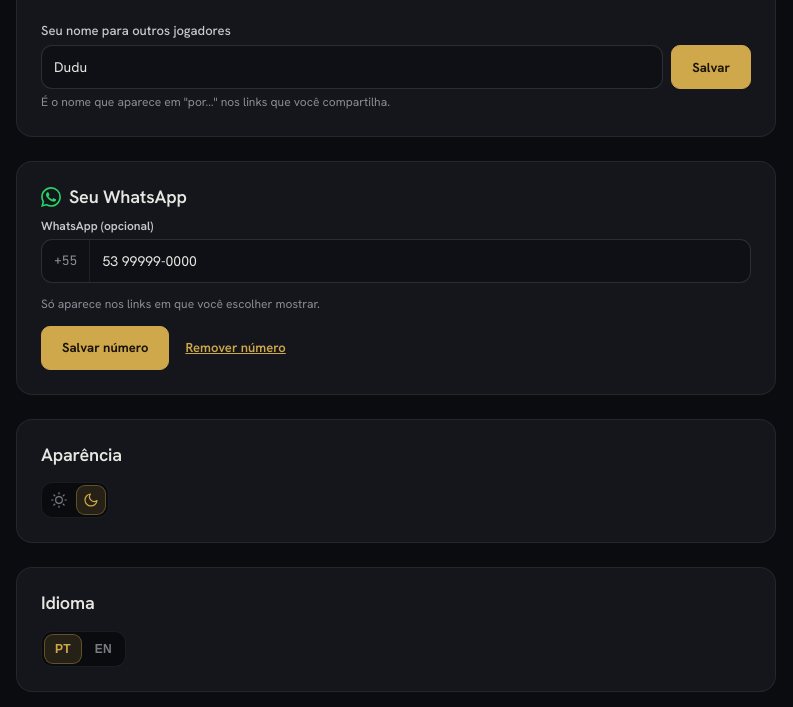
SettingsPage — Contact panel (WhatsApp) › removes the number by sending null
This screenshot has width=793, height=707.
(page scrolled)
Click the button "Remover número" at (236, 348), box [185,326,286,370]
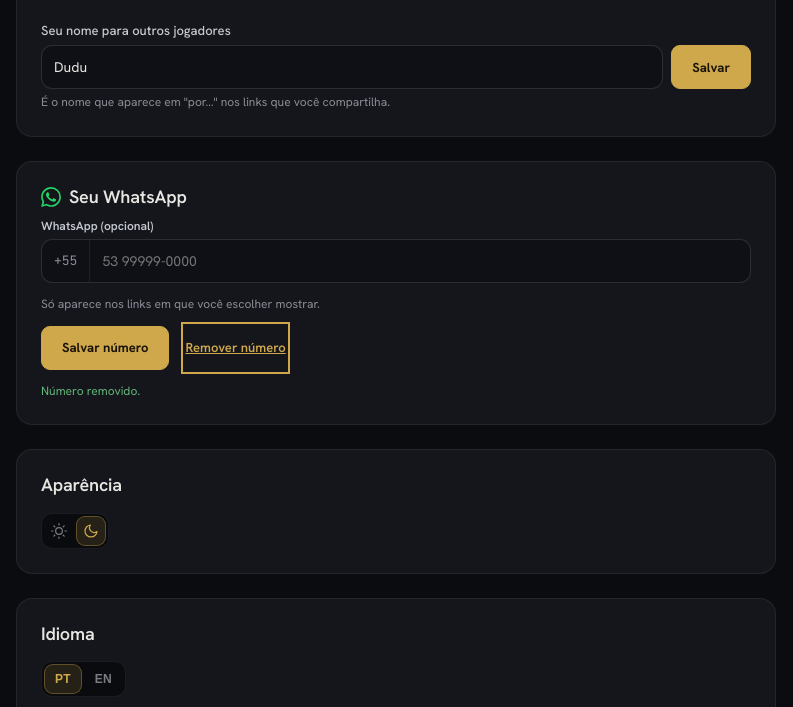
Result: the text "Número removido." is shown at [41,383,140,399]
